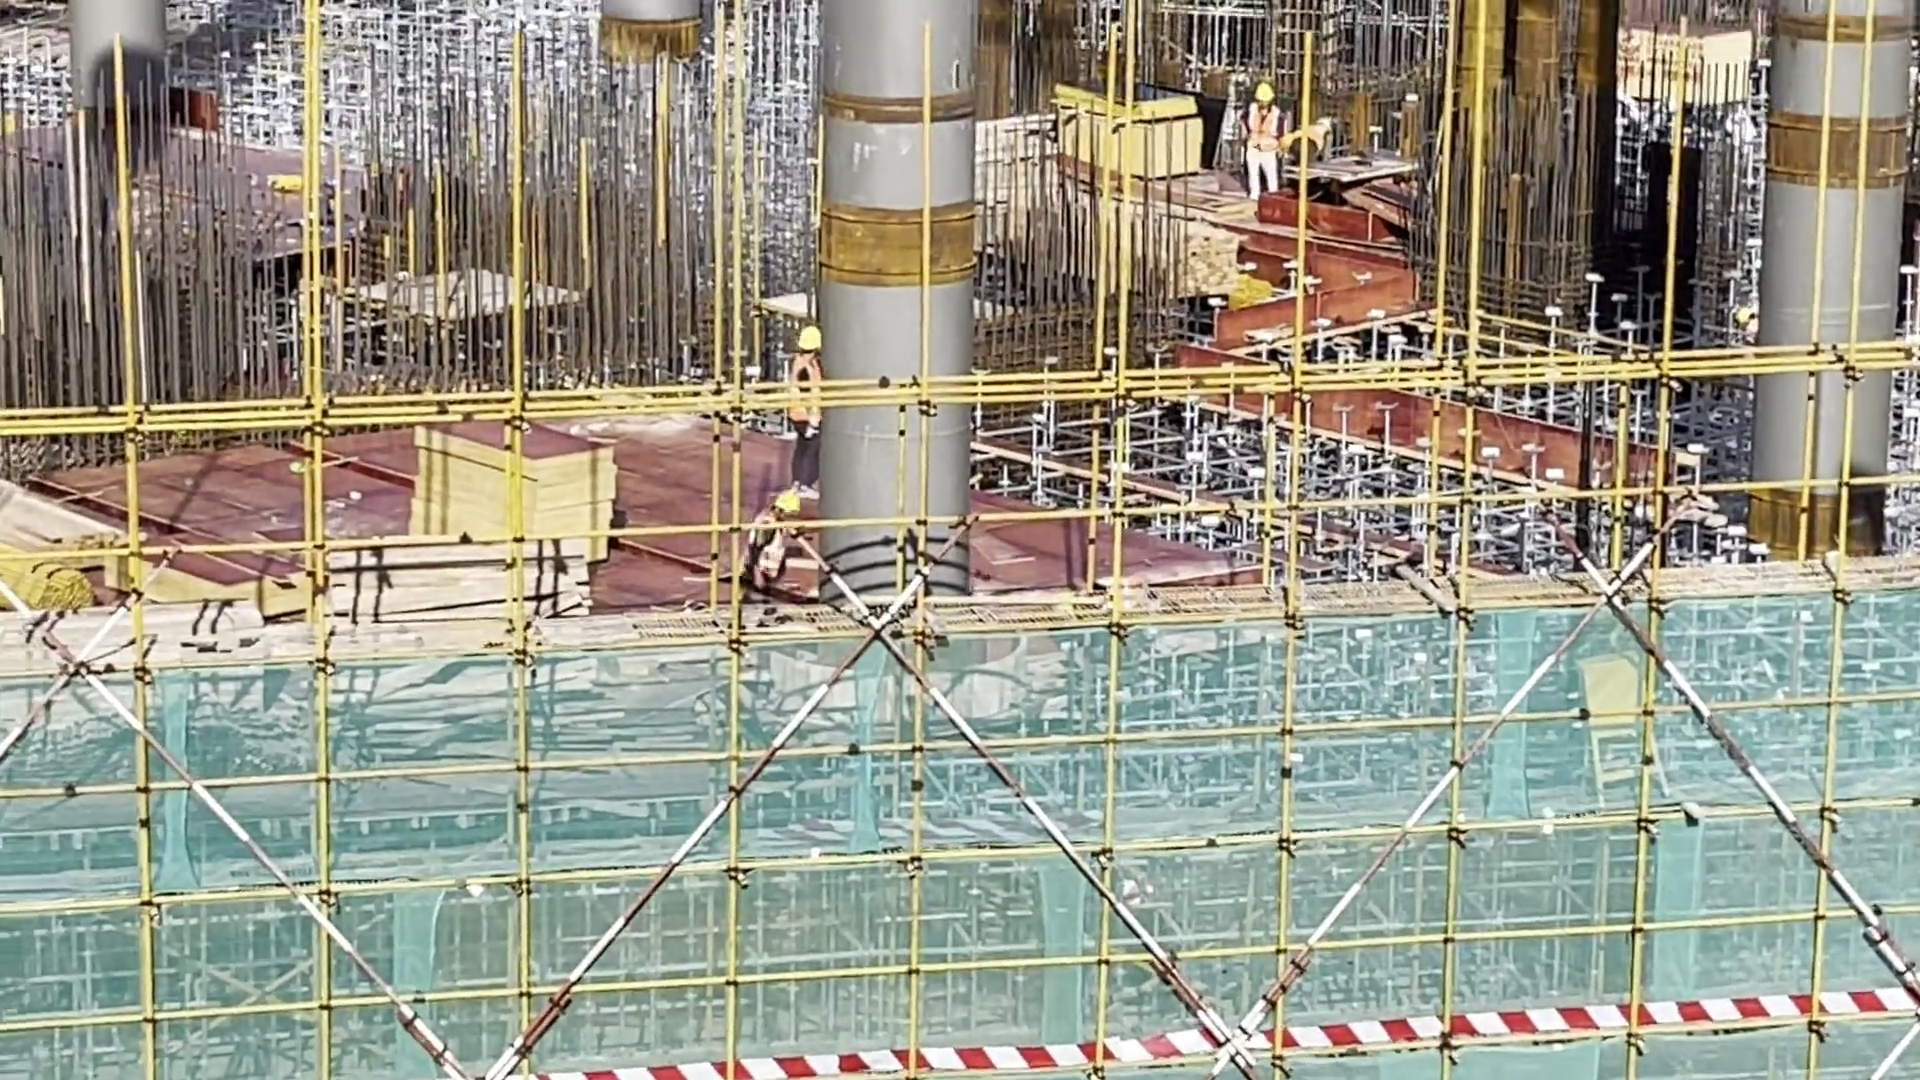board: (398, 406, 619, 577), (1048, 74, 1198, 187)
ebox: (1579, 646, 1676, 805)
helmet: (788, 320, 823, 355), (777, 490, 806, 523), (1251, 80, 1276, 113)
person: (781, 311, 834, 505), (741, 487, 822, 593), (1231, 77, 1298, 204)
vest: (749, 506, 790, 595), (788, 353, 829, 437), (1246, 95, 1283, 160)
wood: (309, 519, 586, 699), (1, 477, 144, 638)
